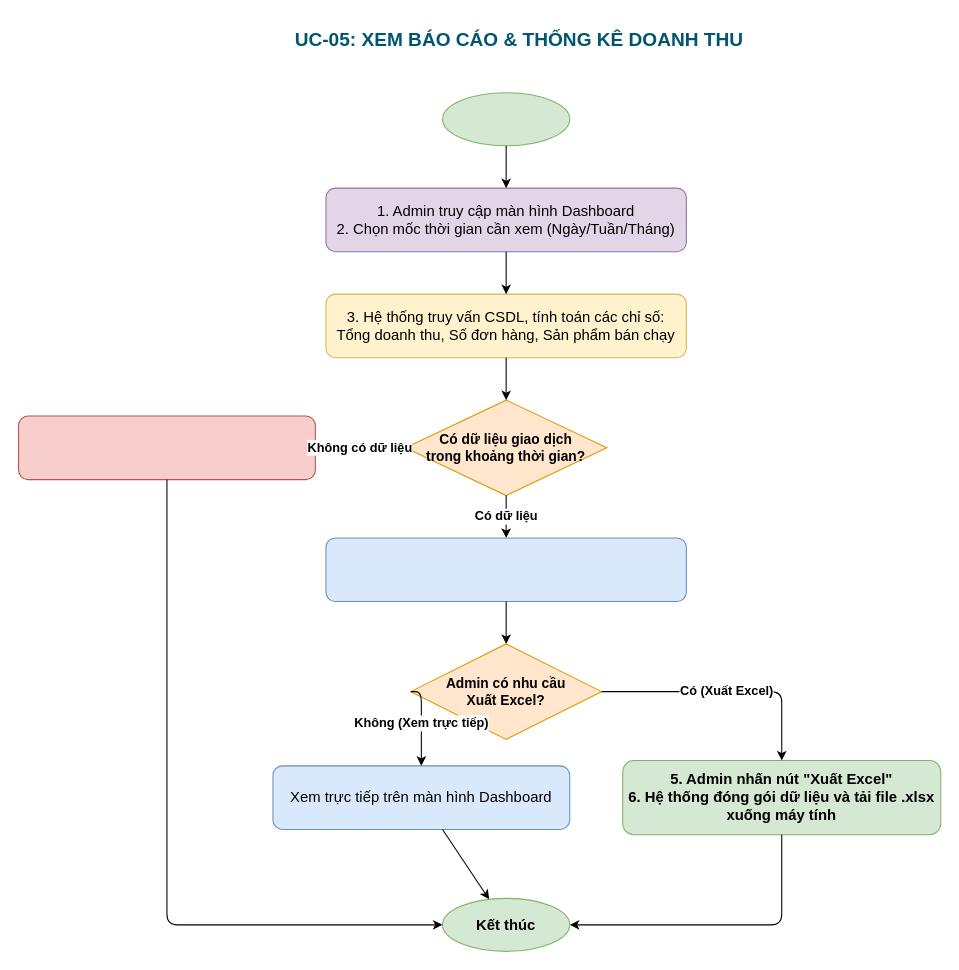
Image size: 959x970. Some labels were removed from this diagram. The shapes that lost their labels are listed below. From the top down, each one's centre as x and y in pixels, then its label:
[505,119]: Bắt đầu
[166,447]: Thông báo: "Chưa có dữ liệu giao dịch trong thời gian này" (Biểu đồ rỗng)
[505,569]: 4. Giao diện (Vue 3) render biểu đồ trực quan (Chart.js) dựa trên dữ liệu trả về
